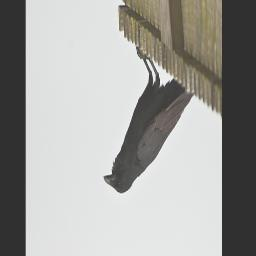Crow: (103, 44, 195, 196)
